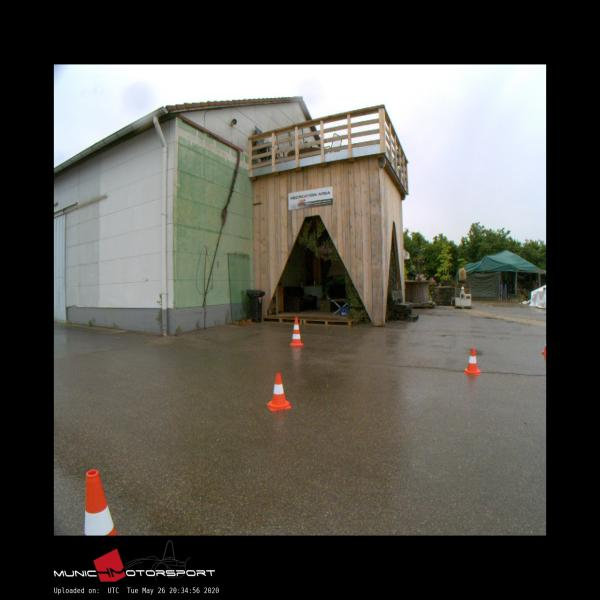large_orange_cone: (289, 317, 303, 345)
orange_cone: (266, 373, 290, 410), (464, 348, 481, 374)
